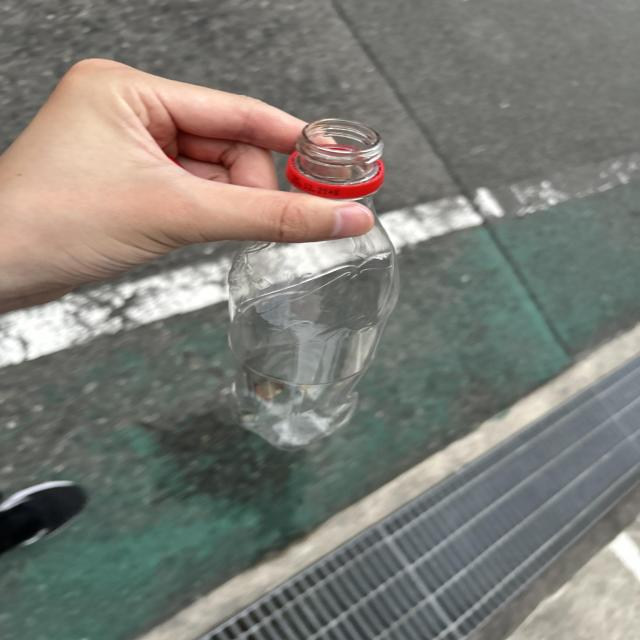empty: (228, 218, 398, 449), (287, 118, 384, 208)
